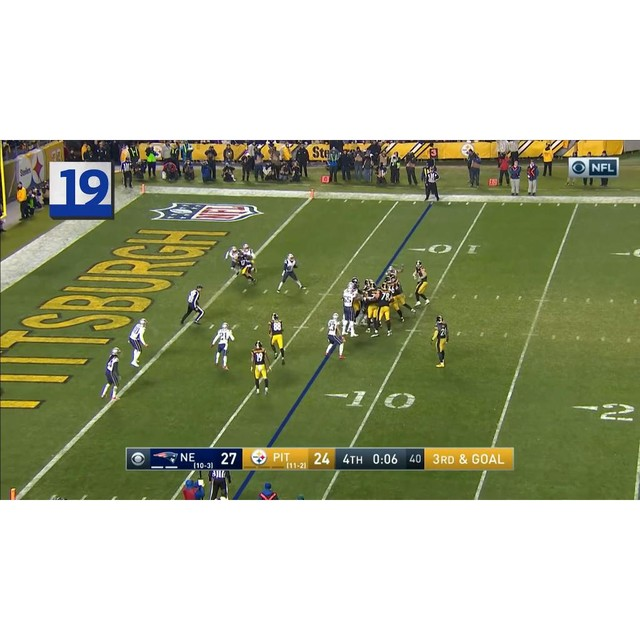american-football-player: (277, 252, 306, 292), (250, 340, 270, 396), (373, 284, 394, 337), (100, 347, 121, 400), (211, 322, 233, 371), (128, 317, 149, 367), (325, 312, 347, 359), (388, 277, 410, 322), (340, 286, 359, 338), (267, 313, 286, 365), (431, 315, 449, 368), (412, 260, 430, 308), (238, 246, 257, 285), (225, 245, 240, 275)
referee: (180, 282, 205, 325), (423, 165, 441, 201)
